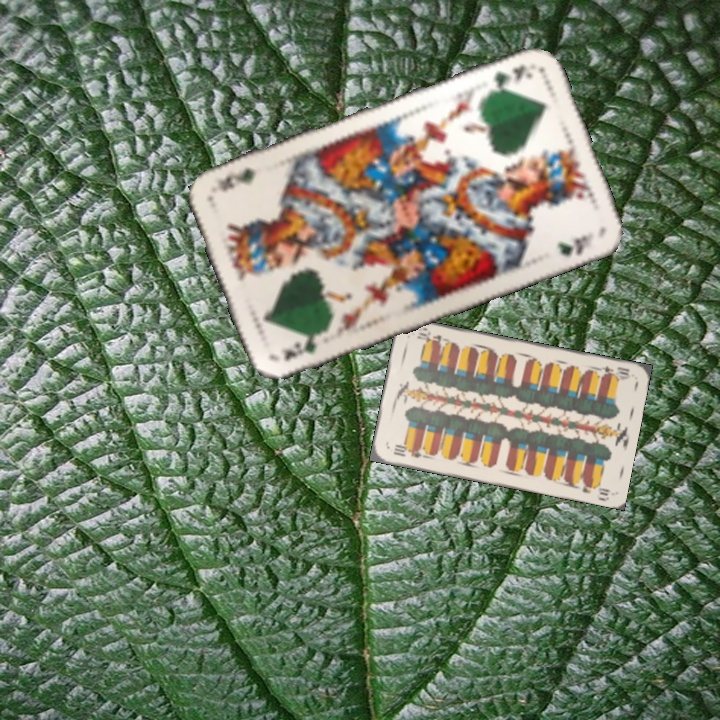E10: (594, 362, 633, 382), (389, 441, 424, 460)
GK: (279, 327, 327, 364), (489, 60, 534, 90)
